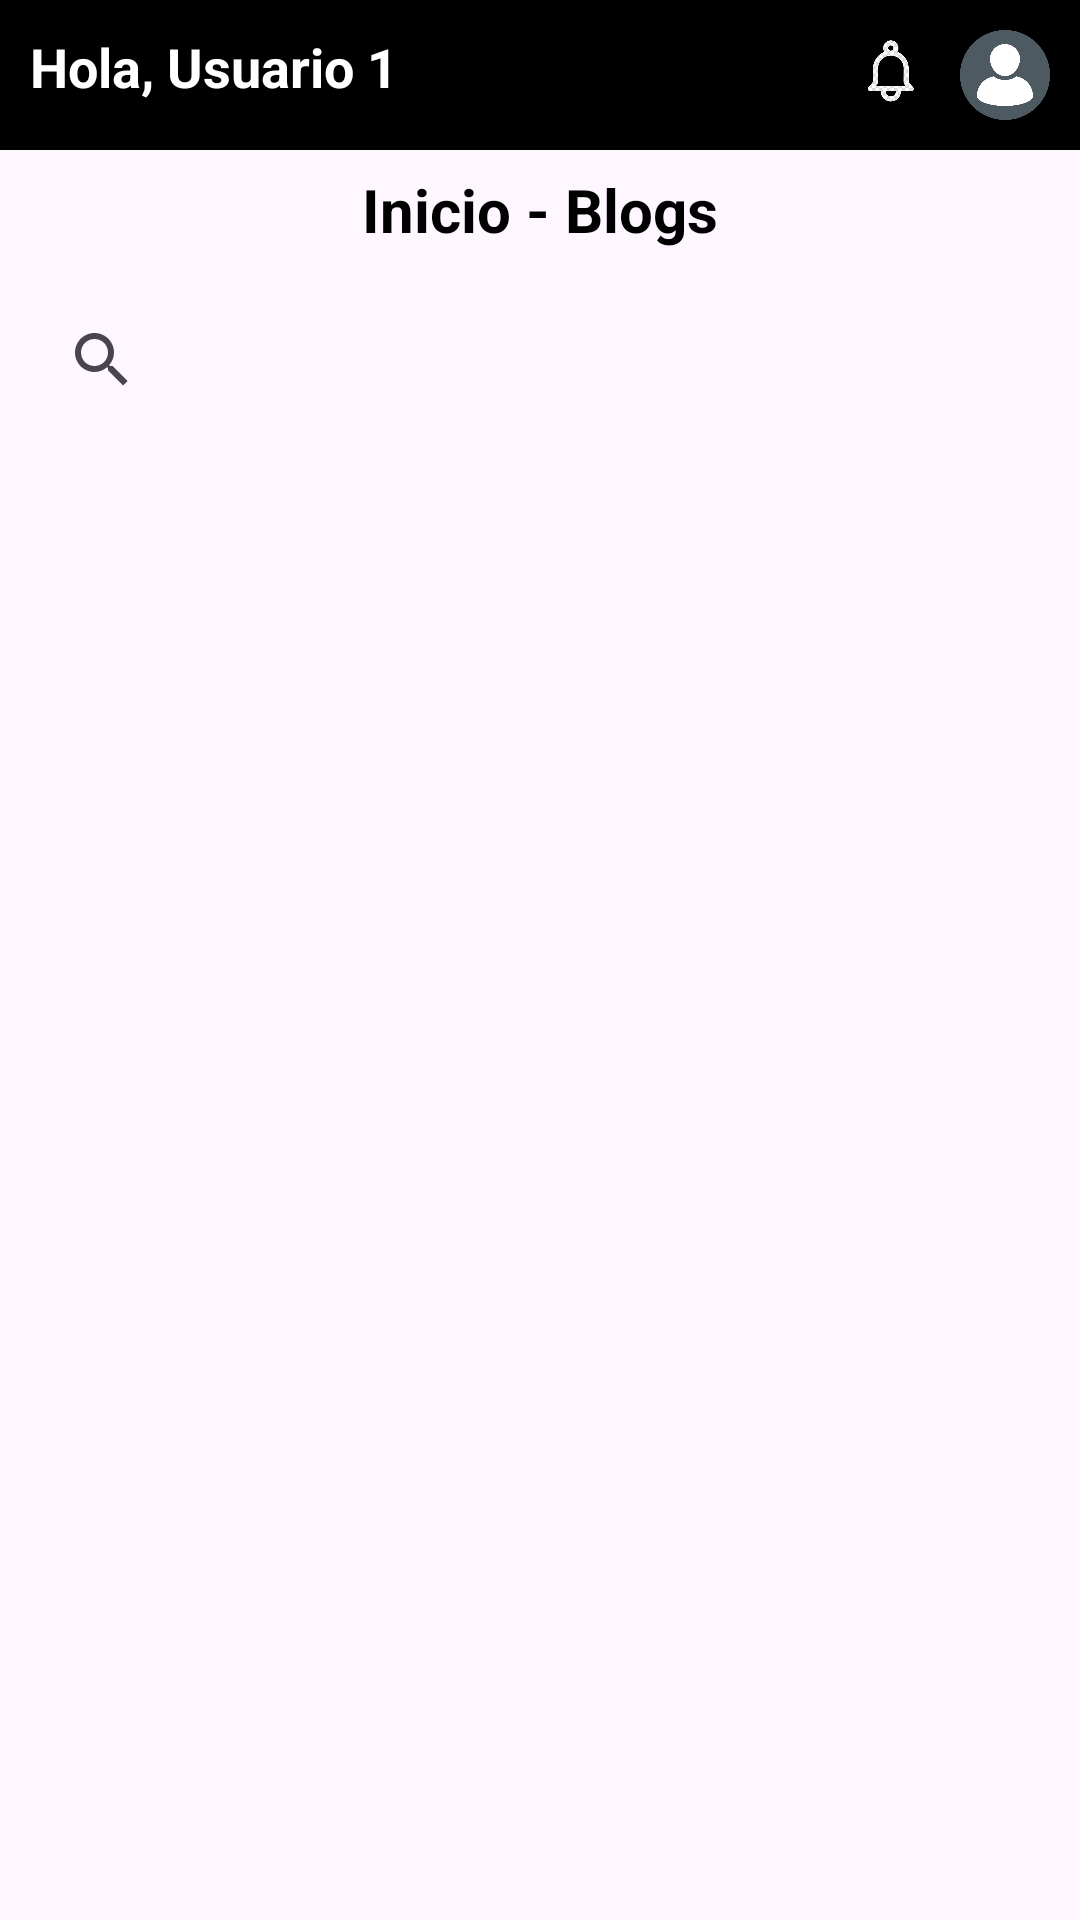

Where to tap for icons on this 1080 × 1920 app screen, as point (x, y):
bell: point (891, 71)
profile: point (1005, 75)
